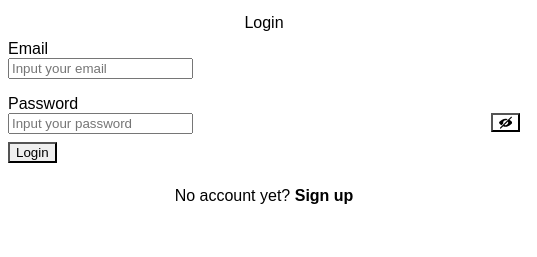
Login Form Email-based Component › should display error message on password
Click the button "Login" at (32, 152), box [8, 142, 57, 163]
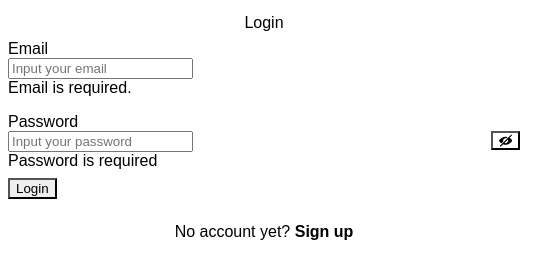
Check: the text "Password is required" is shown, box [8, 152, 157, 169]
